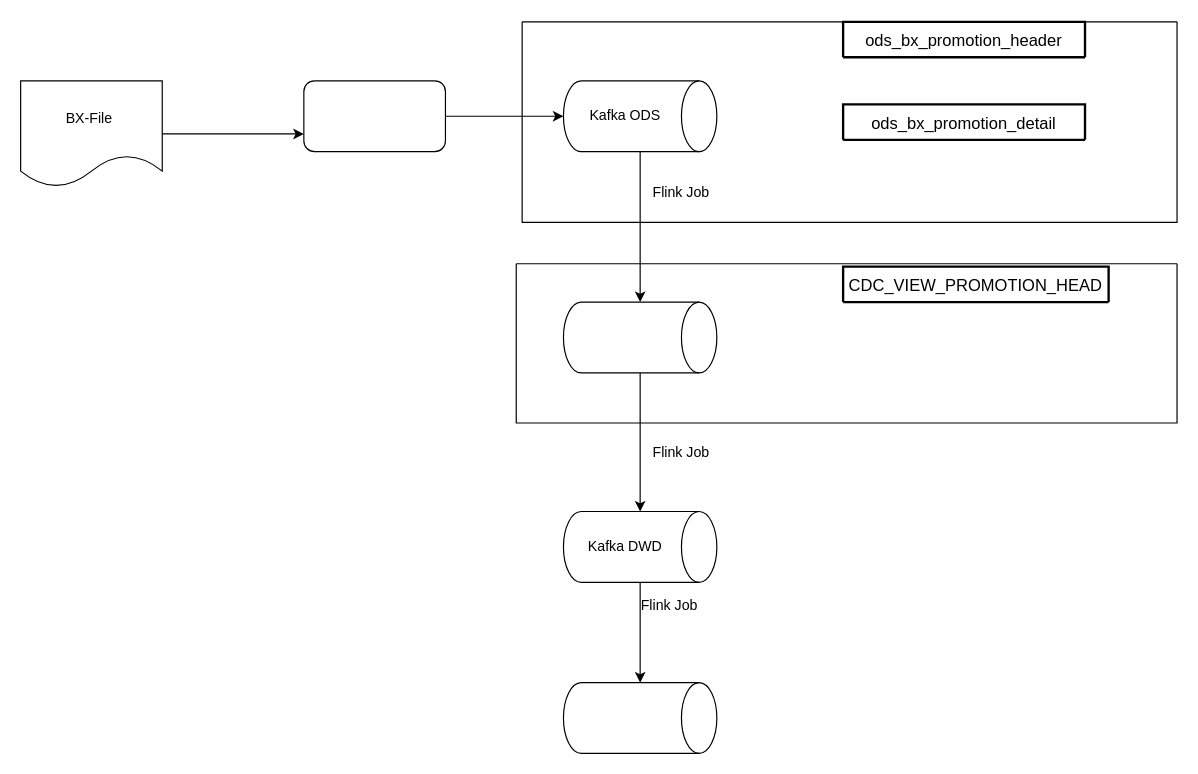
Image size: 1198x774. Some labels were removed from this diagram. The shapes that lost their labels are listed below. From the top down, each one's box as (x1, y1, x2, y2) in pixels, then its label:
(303, 80, 445, 152): Data-in Job
(562, 301, 717, 373): Kafka View
(562, 681, 717, 753): Kafka Target
